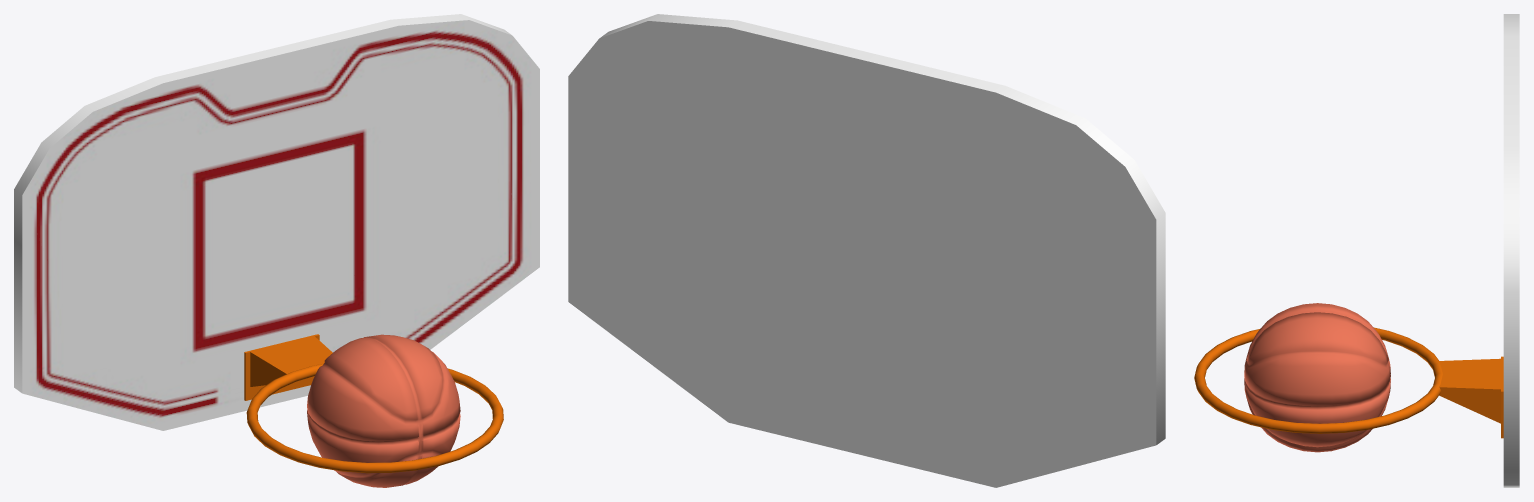
File: Basket_ball.fbx
3 views of the same model, side by side, from view 1: azimuth 30°, elevation 25°; view 2: azimuth 150°, elevation 25°; view 3: azimuth 270°, elevation 25° (orthographic). The views are drawn at different scales.
Visible parts, largest first — view 1: Circle, Bola; view 2: Circle; view 3: Bola, Circle.
Part boxes in pixels (x1,y1,x2,y2): Circle: (14, 14, 539, 473); Bola: (307, 334, 460, 487); Circle: (568, 14, 1165, 487); Bola: (1244, 303, 1390, 452); Circle: (1194, 14, 1519, 487).
Bounding box in the file's own units: 0.627 × 0.4134 × 0.3501.
